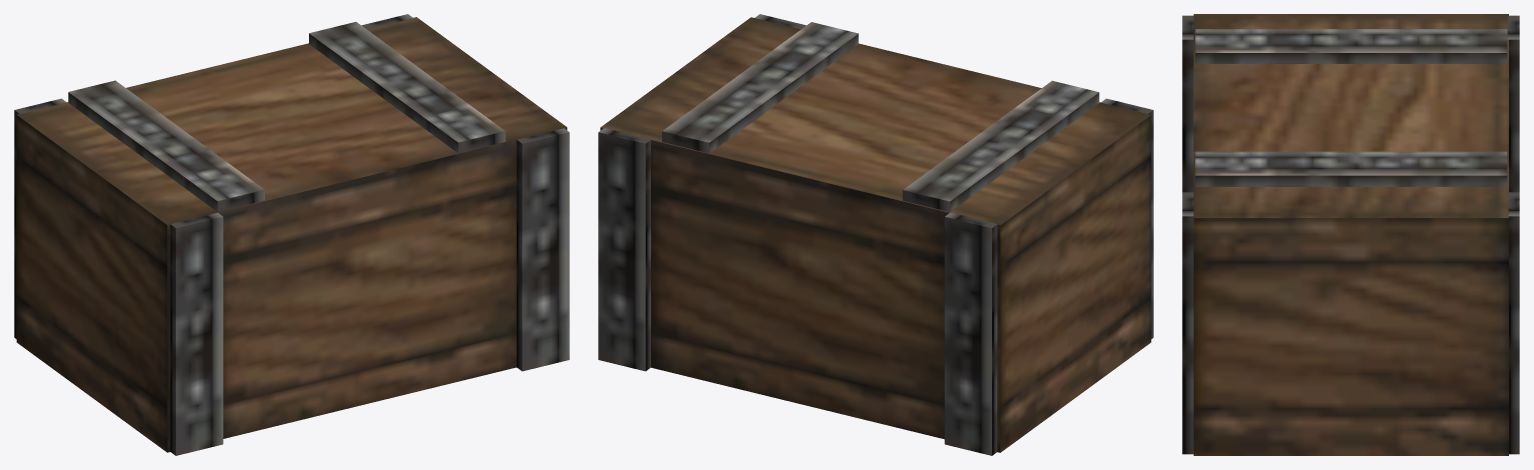
3 renders of one model, left to right at view 1: azimuth 30°, elevation 25°; view 2: azimuth 150°, elevation 25°; view 3: azimuth 270°, elevation 25°, orthographic. The views are drawn at different scales.
Parts seen in each view (by area): view 1: box03; view 2: box03; view 3: box03.
Part boxes in pixels (x1=…): box03: x1=14, y1=14, x2=569, y2=455; box03: x1=598, y1=14, x2=1153, y2=455; box03: x1=1182, y1=14, x2=1519, y2=455.
Size of the model in its own units: 0.9998 by 0.5692 by 0.6992.
